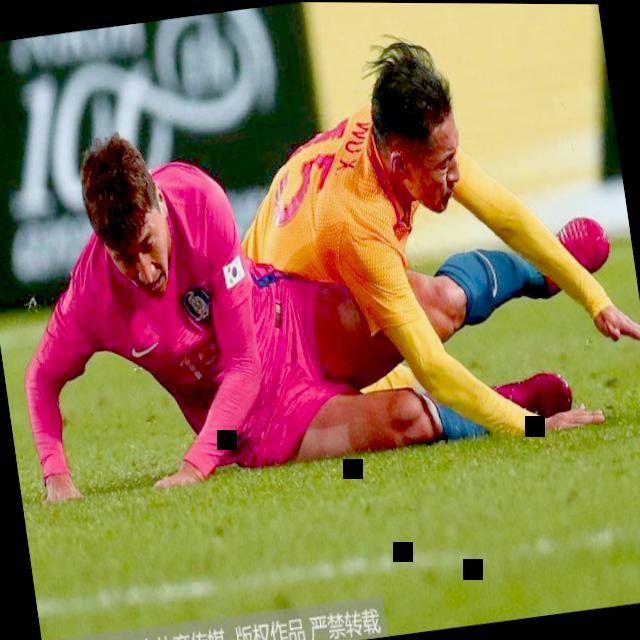Fall-Detected: (157, 1, 640, 494)
